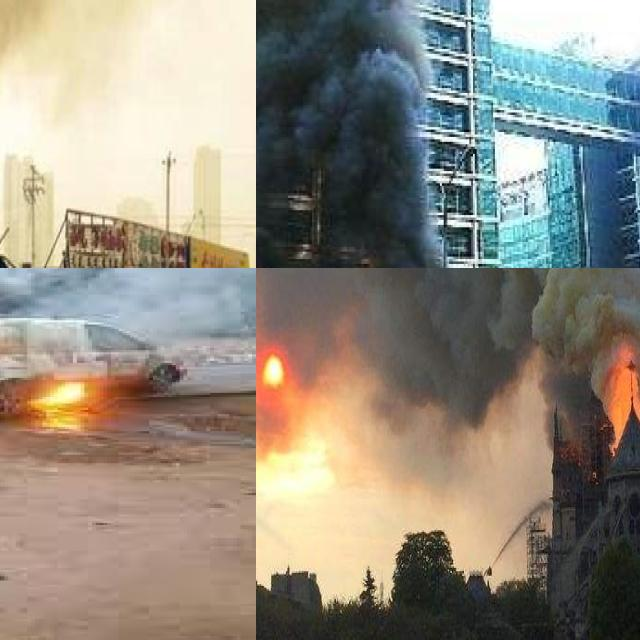fire: (20, 367, 126, 425), (604, 331, 640, 456)
smoke: (256, 268, 640, 456), (256, 0, 462, 268), (0, 268, 256, 337)
